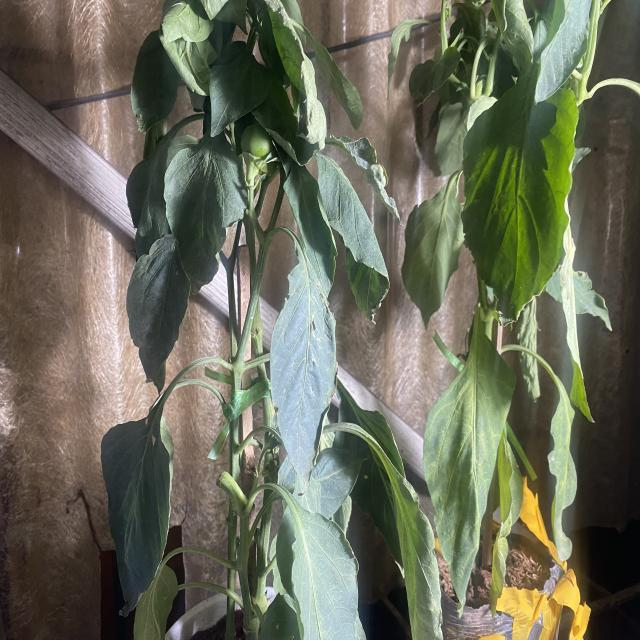Leaf: (461, 84, 579, 328), (422, 338, 516, 618), (270, 264, 338, 496), (100, 416, 174, 619), (163, 136, 248, 294), (317, 150, 390, 326), (125, 236, 191, 394)
